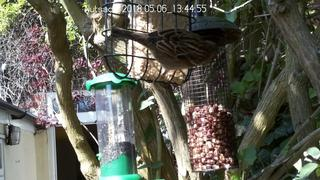sparrow: (110, 26, 218, 76)
